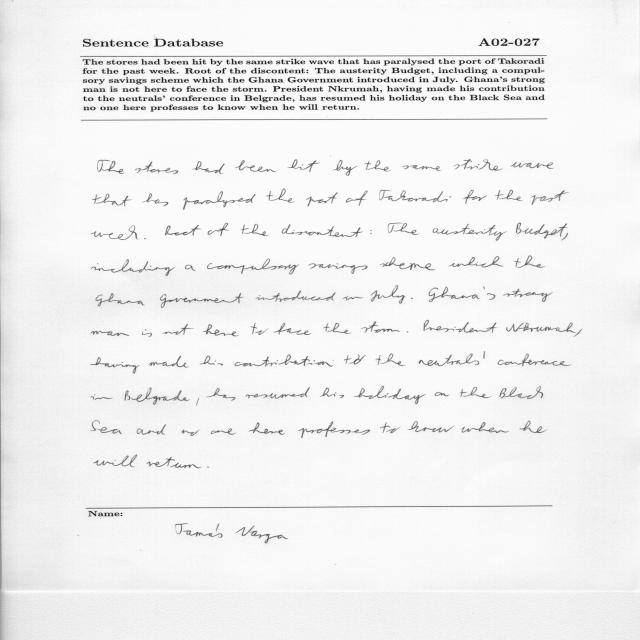word: (207, 259, 299, 275), (91, 259, 175, 276), (183, 191, 256, 210), (354, 386, 426, 404), (432, 224, 507, 241), (160, 293, 244, 308), (298, 421, 370, 438), (235, 355, 334, 367), (124, 387, 190, 405), (282, 224, 363, 237), (429, 287, 496, 302), (424, 320, 497, 333), (418, 352, 485, 366), (255, 291, 336, 302), (498, 354, 571, 366), (380, 190, 452, 202), (516, 223, 568, 239), (91, 358, 140, 374), (507, 322, 577, 333), (246, 387, 310, 399), (379, 257, 436, 270), (92, 225, 139, 240), (503, 288, 553, 302), (96, 293, 145, 307), (309, 263, 368, 274), (371, 286, 406, 304), (449, 256, 504, 267), (147, 457, 202, 468), (454, 159, 503, 171), (499, 386, 543, 399), (531, 190, 568, 205), (408, 421, 455, 432), (462, 422, 509, 433), (135, 162, 178, 174), (94, 455, 137, 467), (235, 160, 276, 172), (93, 194, 132, 206), (203, 324, 239, 337), (361, 321, 400, 333), (249, 422, 285, 435), (306, 193, 338, 207), (274, 323, 311, 335), (149, 356, 189, 367), (192, 161, 225, 174), (287, 160, 320, 173), (91, 421, 122, 434), (333, 160, 358, 176), (267, 189, 295, 203), (207, 388, 236, 401), (388, 223, 419, 235), (514, 256, 545, 268), (98, 160, 124, 174), (165, 225, 201, 235), (376, 354, 406, 366), (346, 190, 368, 206), (460, 387, 492, 398), (463, 190, 488, 204), (163, 324, 194, 335), (143, 194, 169, 207), (241, 224, 269, 236), (519, 421, 547, 433), (137, 424, 166, 435), (495, 190, 523, 201), (323, 323, 351, 334), (511, 162, 554, 169), (365, 161, 391, 172), (208, 223, 229, 236), (320, 388, 344, 399), (402, 165, 442, 171), (199, 356, 223, 366), (250, 323, 269, 335), (344, 355, 366, 365), (380, 423, 401, 433), (91, 331, 129, 336), (211, 428, 236, 435), (181, 429, 200, 436), (91, 394, 113, 400), (343, 296, 363, 300), (142, 329, 152, 337), (574, 329, 582, 337), (185, 265, 195, 271), (435, 392, 450, 396), (561, 233, 568, 240), (197, 398, 200, 406), (370, 230, 372, 234), (207, 466, 209, 468), (144, 239, 146, 240), (411, 298, 413, 299), (407, 332, 409, 333)
